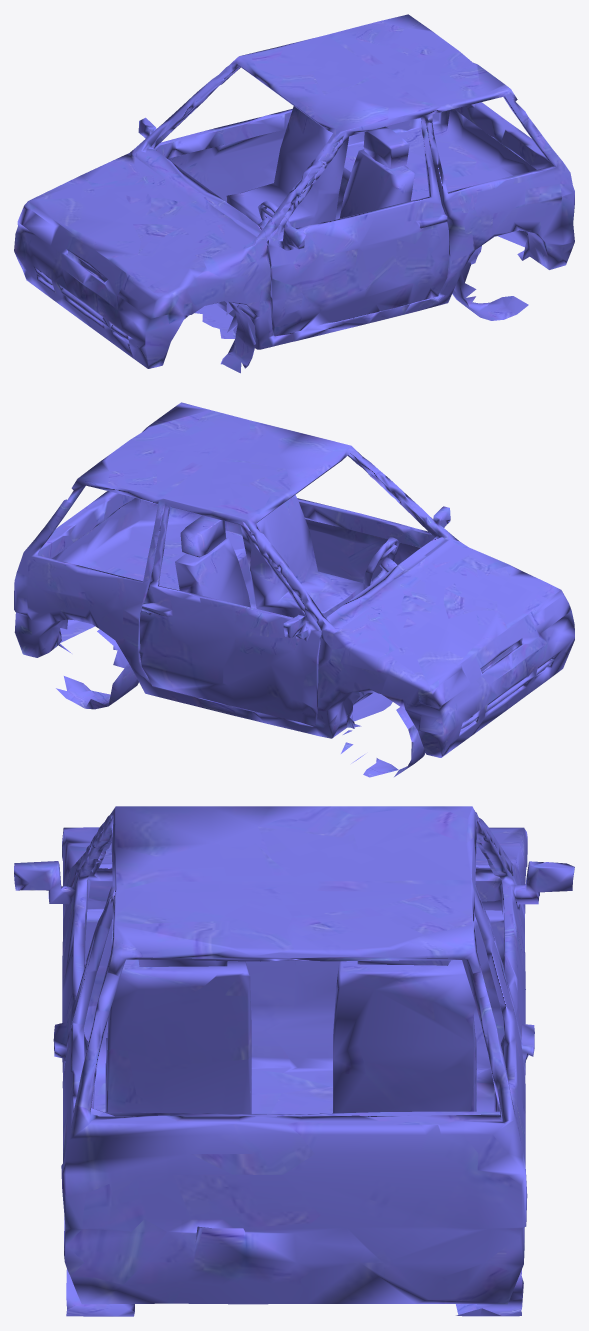
File: car1_body.gltf
3 views of the same model, one above another, from view 1: azimuth 30°, elevation 25°; view 2: azimuth 150°, elevation 25°; view 3: azimuth 270°, elevation 25° (orthographic). The views are drawn at different scales.
Parts seen in each view (by area): view 1: car1_body; view 2: car1_body; view 3: car1_body.
Boxes of the visible parts, left/top/right/bottom form: car1_body: left=14, top=14, right=574, bottom=373; car1_body: left=14, top=402, right=574, bottom=777; car1_body: left=14, top=806, right=574, bottom=1316.
Size of the model in its own units: 1.9 by 0.911 by 1.23.
Materials: 1 (1 with a texture image).
